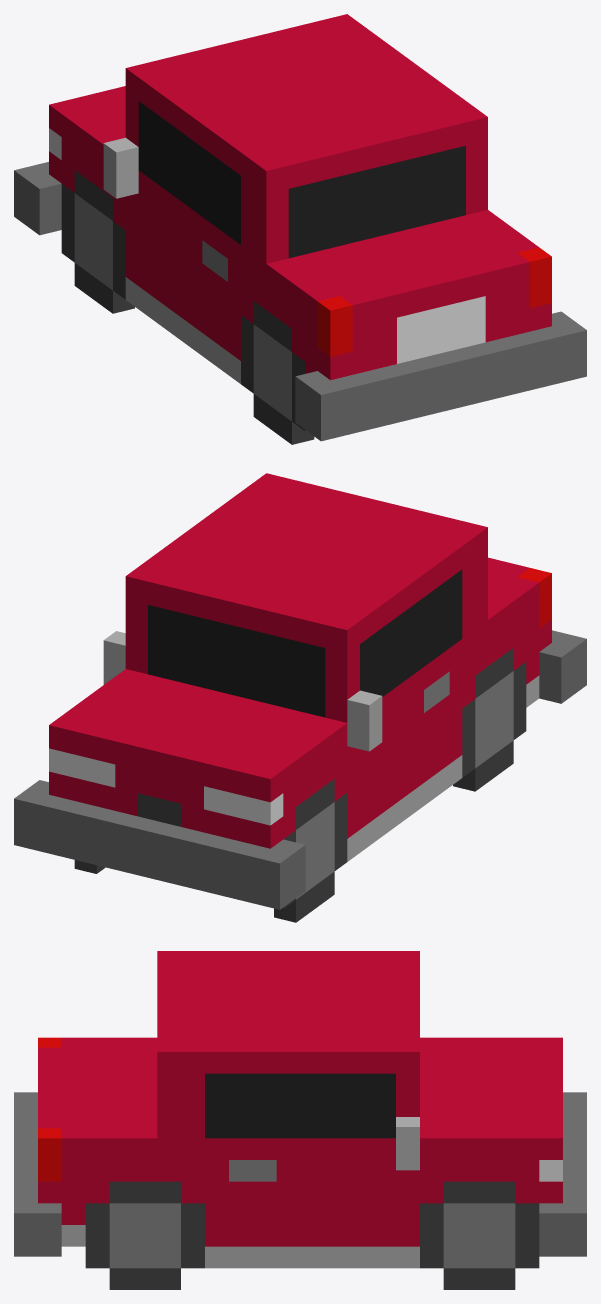
The model's file is veh_mini1.obj.
3 views of the same model, one above another, from view 1: azimuth 30°, elevation 25°; view 2: azimuth 150°, elevation 25°; view 3: azimuth 270°, elevation 25° (orthographic). The views are drawn at different scales.
Size of the model in its own units: 1.2 by 1.1 by 2.4.
1 material, 1 textured.
